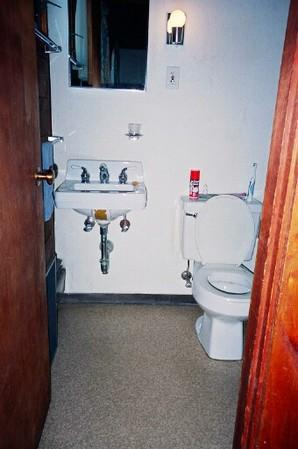Lavamanos: (59, 154, 155, 283)
Puerta: (2, 2, 52, 447)
Sanitario: (181, 182, 259, 360)
